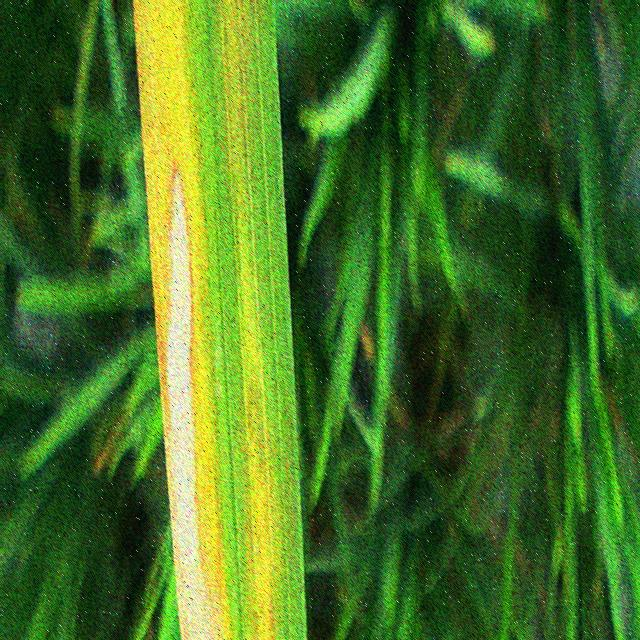BLB: (165, 164, 223, 640)
